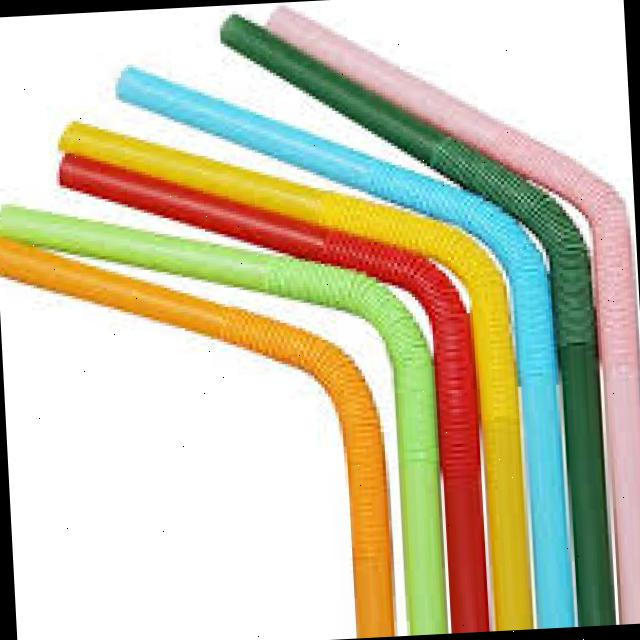plastic: (0, 199, 415, 640)
